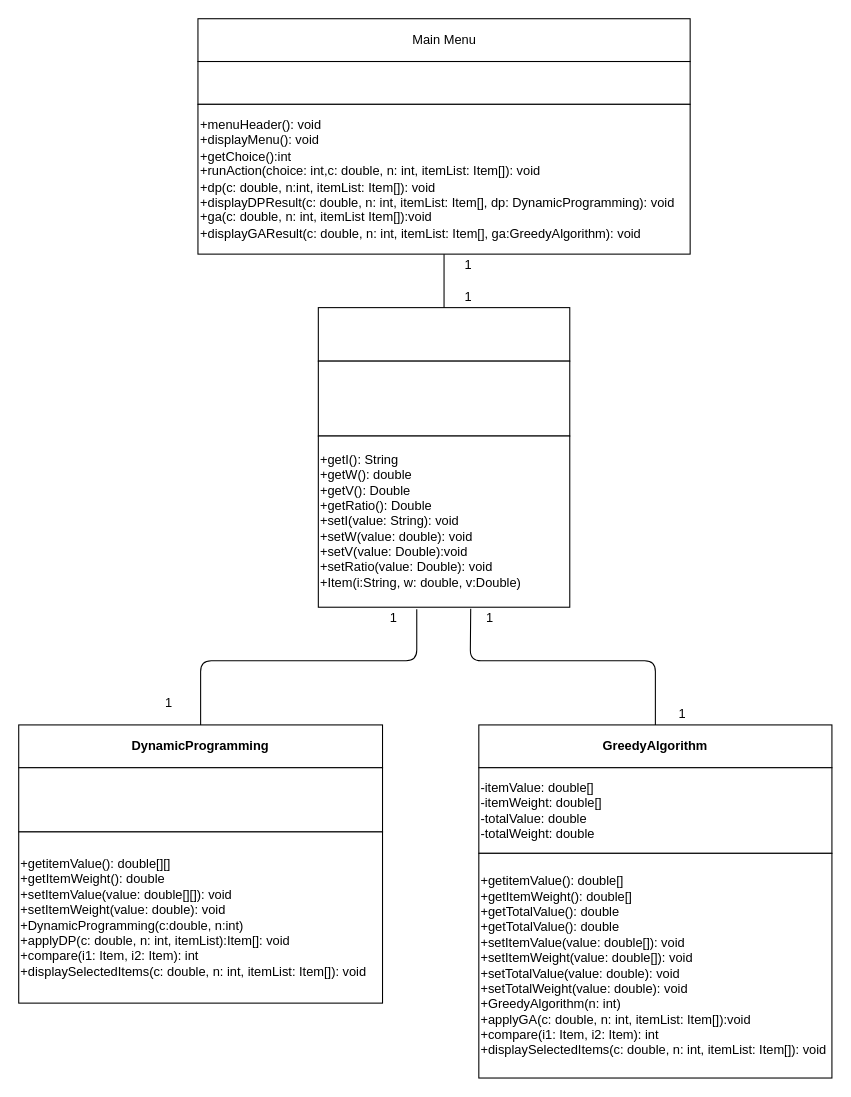
This 851x1097 diagram has some shape labels left out. Here are the shapes that lost their labels. From the top down, the centre of each, then its label:
point (443, 334): Item
point (443, 398): -i: String -w: double -v: Double -ratio: Double
point (200, 799): -itemValue: double[][] -itemWeight: double
